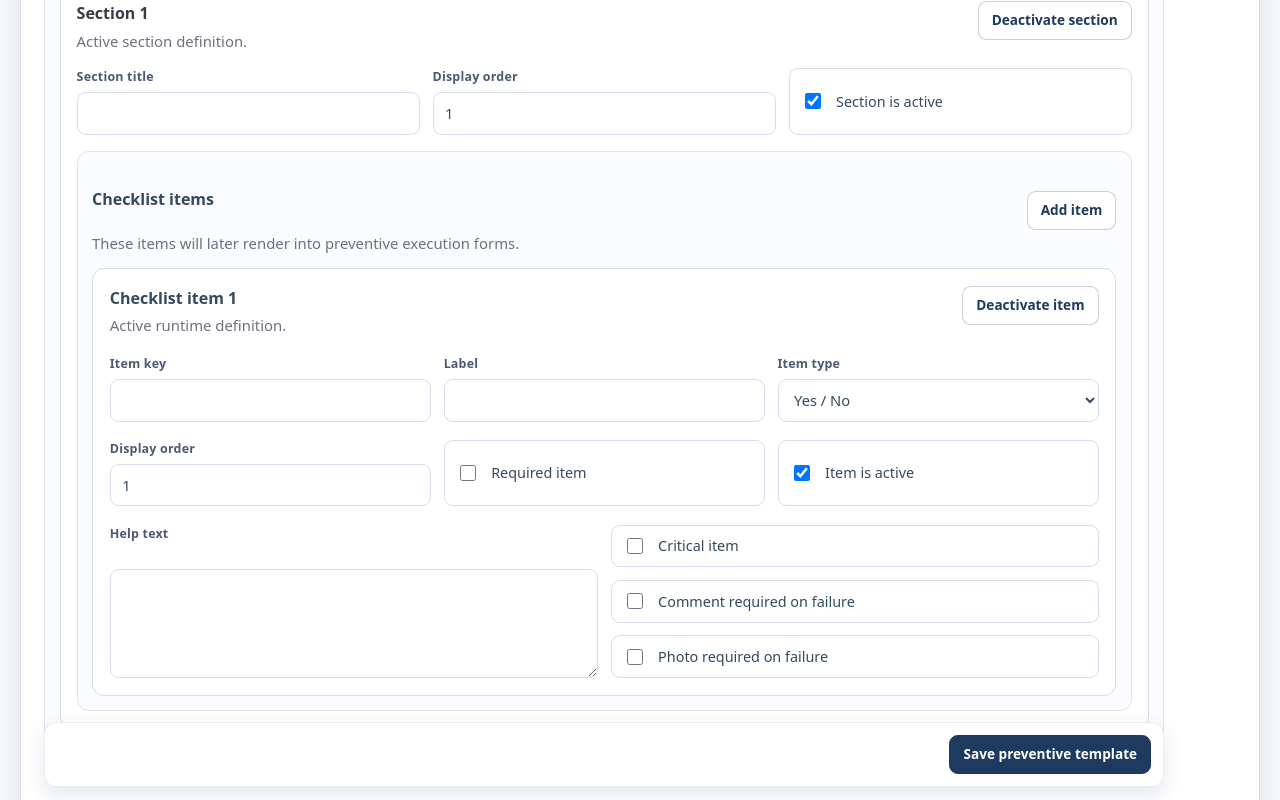
Scenario: PreventiveTemplateForm › should show the options editor when the item type is select
The width and height of the screenshot is (1280, 800).
(page scrolled)
Select "Select" in the dropdown labelled "Item type" at {"x": 938, "y": 400}, box x1=778 y1=379 x2=1099 y2=422
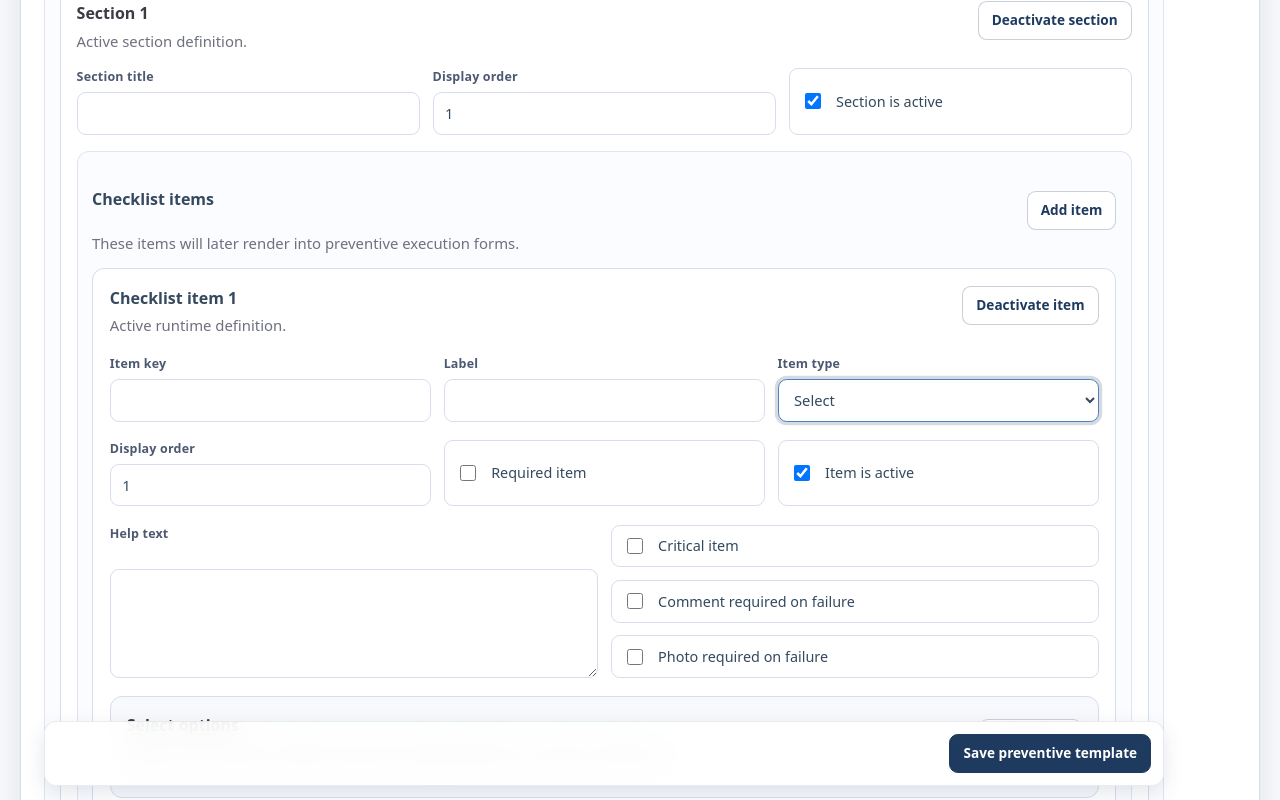
Expected: the heading "Select options" is shown, x1=127 y1=714 x2=239 y2=736
Expected: the button "Add option" is shown, x1=979 y1=719 x2=1082 y2=758
